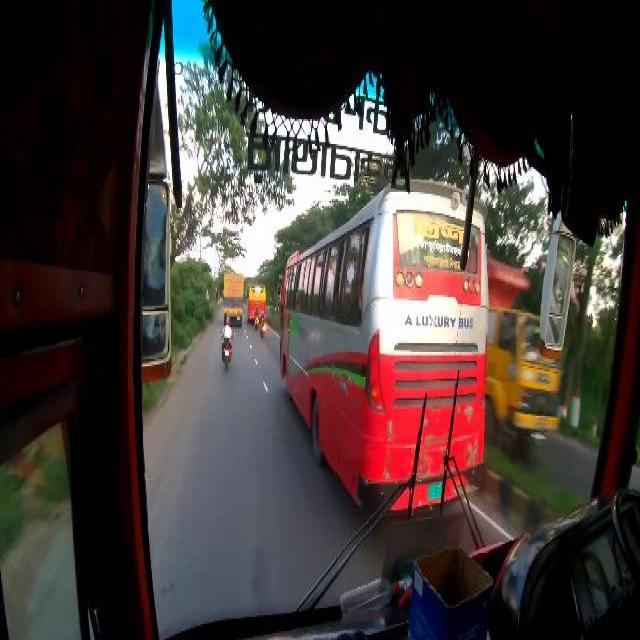bus: (278, 185, 486, 512), (244, 283, 266, 321)
motorbike: (221, 317, 233, 369), (259, 309, 265, 335), (254, 306, 260, 327)
truck: (486, 260, 566, 454), (222, 268, 242, 322)
